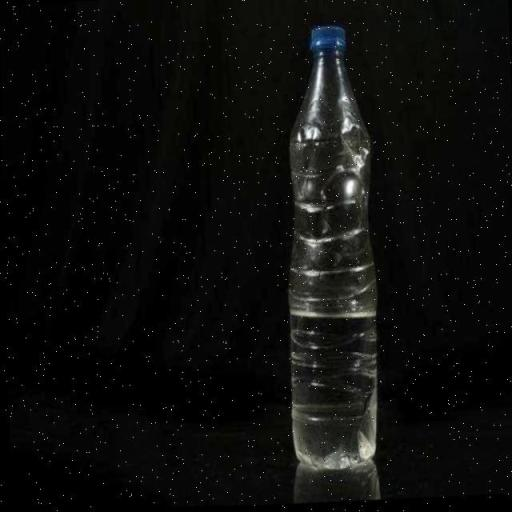plastic: (274, 20, 385, 478)
